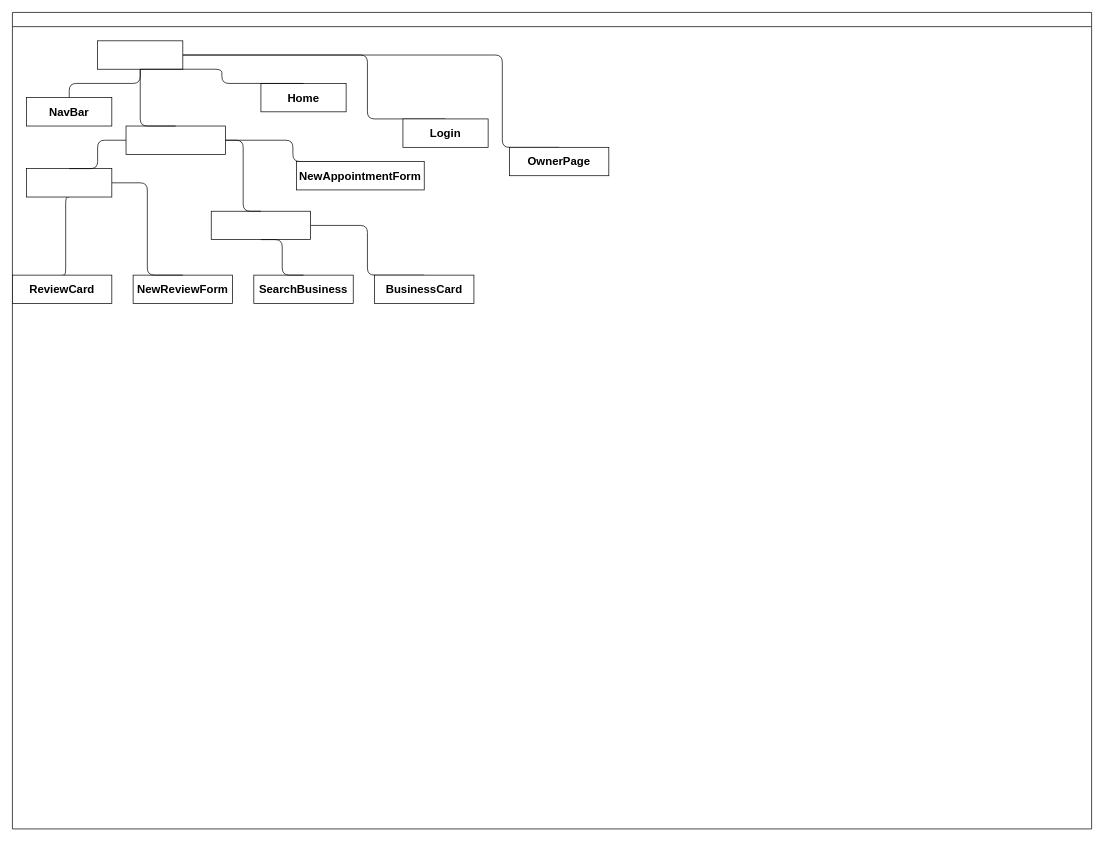
Image size: 1104x841. Some labels were removed from this diagram. Here are the shapes that lost their labels. From the top down, the box of each, then its label:
(97, 40, 183, 69): App
(125, 125, 225, 154): BusinessesPage
(26, 168, 112, 197): BusinessDetail
(211, 211, 311, 240): BusinessList
